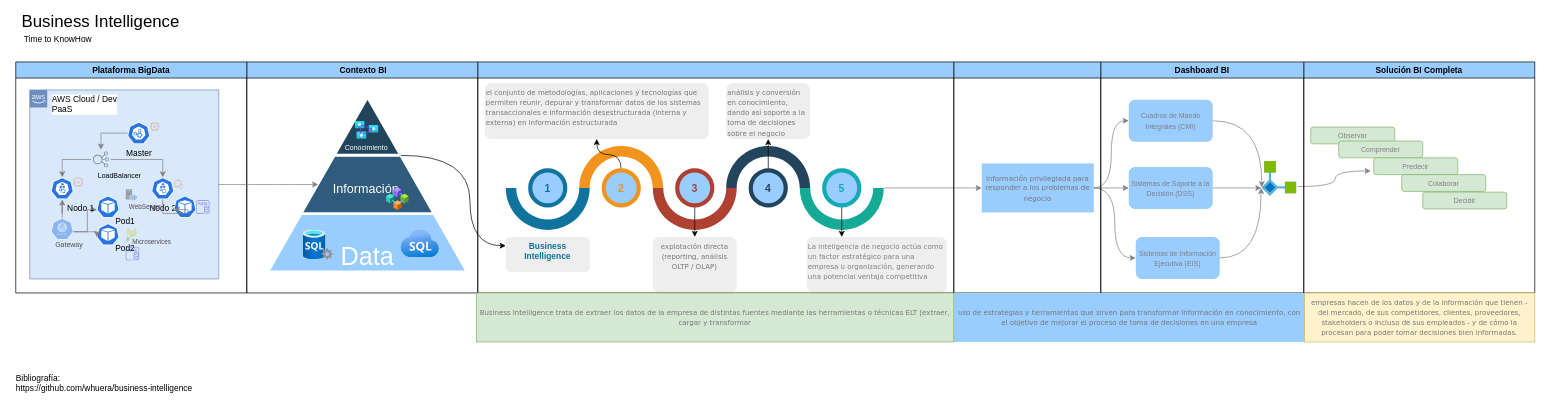
The diagram is 1547 pixels wide and 407 high, and some of its shapes have lost their labels. Here are the shapes that lost their labels. From the top down, the centre of each, then its label:
[715,177]: Ciclo BI
[1027,177]: Analitica de Información
